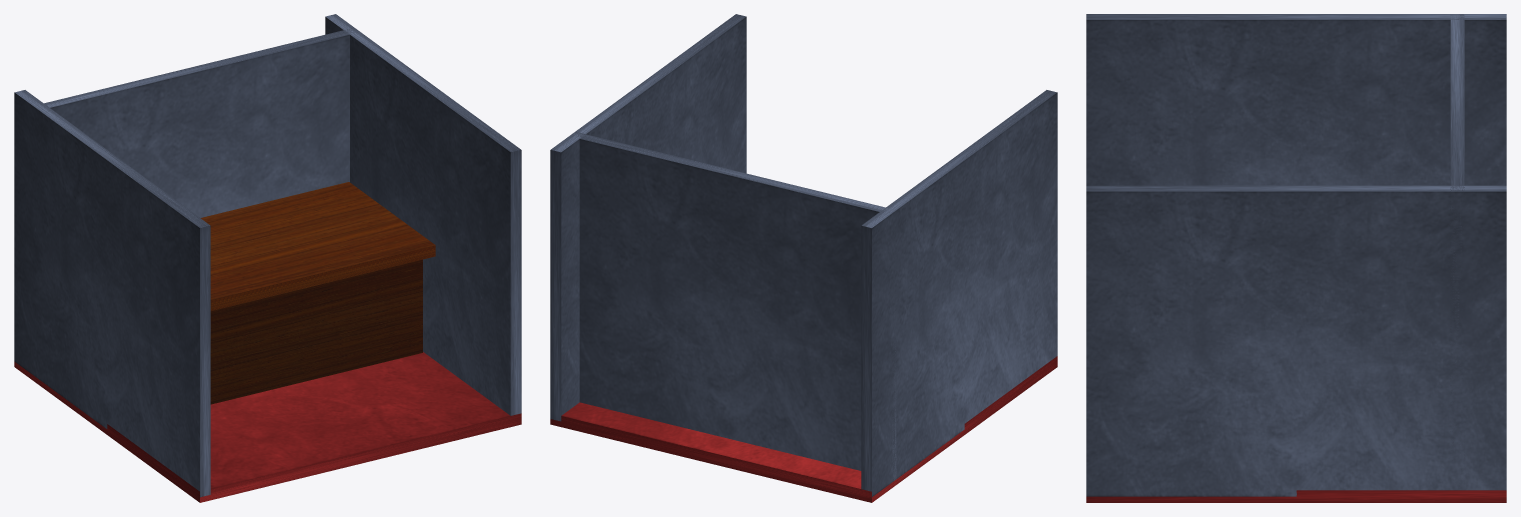
File: countertop.gltf
3 renders of one model, left to right at view 1: azimuth 30°, elevation 25°; view 2: azimuth 150°, elevation 25°; view 3: azimuth 270°, elevation 25°, orthographic. The views are drawn at different scales.
Visible parts, largest first — view 1: Cube (×4), object 1, object 2; view 2: Cube (×4); view 3: Cube (×4).
Part boxes in pixels (x1,y1,x2,y2): Cube (×4): (14, 14, 521, 502); object 1: (210, 259, 422, 404); object 2: (201, 182, 435, 310); Cube (×4): (550, 14, 1057, 502); Cube (×4): (1086, 14, 1506, 502).
Bounding box in the file's own units: 6 × 4.9 × 6.
6 materials, 6 textured.
